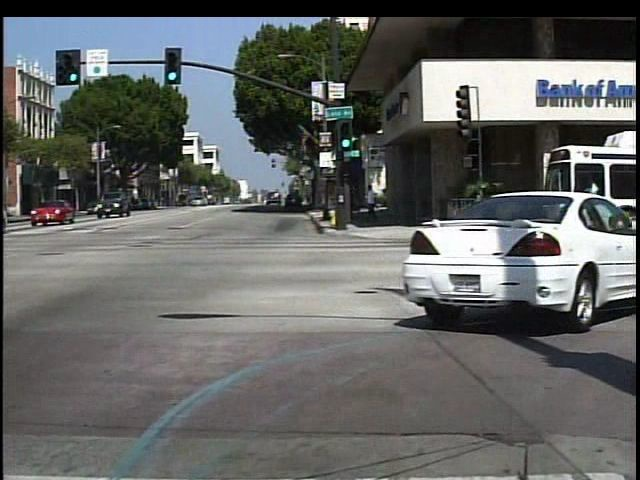person: (362, 180, 383, 224)
